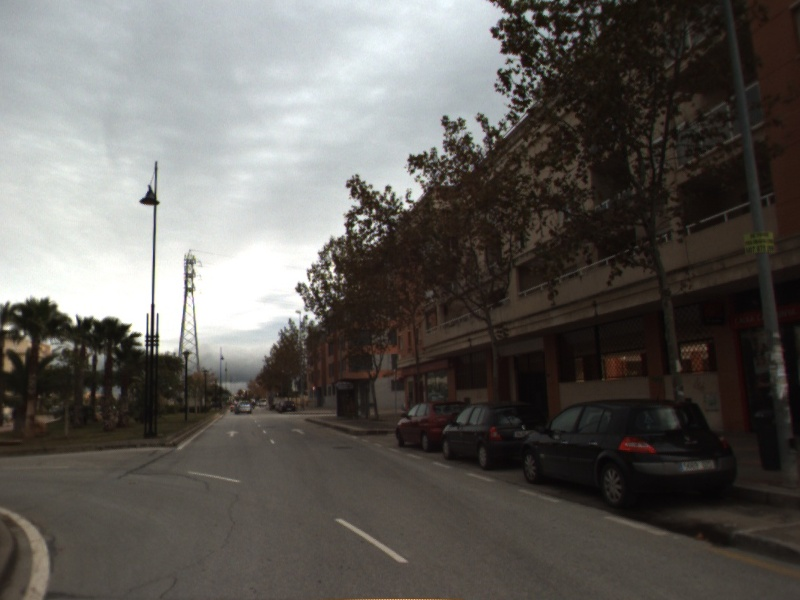STRAIGHT: (224, 428, 241, 439), (289, 426, 307, 436)
